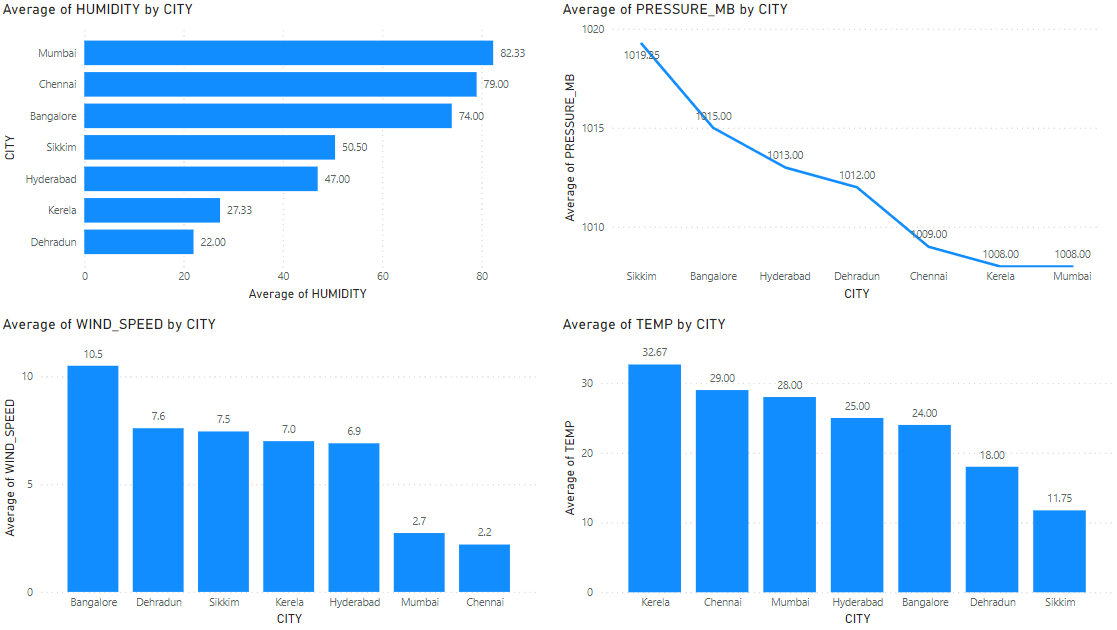

The page's visual inventory and layout, read from the dashboard file:
{"tool":"powerbi","page":{"name":"City Comparision After 2 hours","canvas":[1280,720],"ordinal":2},"visuals":[{"type":"barChart","fields":{"Category":["2024-04-10 4_36pm (2).CITY"],"Y":["Avg(2024-04-10 4_36pm (2).HUMIDITY)"]},"box":[0,0,621.6,348.5],"z":0},{"type":"lineChart","fields":{"Category":["2024-04-10 4_36pm (2).CITY"],"Y":["Avg(2024-04-10 4_36pm (2).PRESSURE_MB)"]},"box":[639.5,0,625.7,348.5],"z":1000},{"type":"clusteredColumnChart","fields":{"Y":["Avg(2024-04-10 4_36pm (2).TEMP)"],"Category":["2024-04-10 4_36pm (2).CITY"]},"box":[639.5,359.5,640.8,360.9],"z":2000},{"type":"clusteredColumnChart","fields":{"Y":["Avg(2024-04-10 4_36pm (2).WIND_SPEED)"],"Category":["2024-04-10 4_36pm (2).CITY"]},"box":[0,359.5,621.6,360.5],"z":3000}]}

Visuals, with their boxes in screenshot pixels (x1, y1, x2, y2), scaled from the page's 1280x720 canvas onto the 1117x630 screenshot:
barChart - 2024-04-10 4_36pm (2).CITY x Avg(2024-04-10 4_36pm (2).HUMIDITY): box(0, 0, 542, 305)
lineChart - 2024-04-10 4_36pm (2).CITY x Avg(2024-04-10 4_36pm (2).PRESSURE_MB): box(558, 0, 1104, 305)
clusteredColumnChart - Avg(2024-04-10 4_36pm (2).TEMP) x 2024-04-10 4_36pm (2).CITY: box(558, 315, 1116, 629)
clusteredColumnChart - Avg(2024-04-10 4_36pm (2).WIND_SPEED) x 2024-04-10 4_36pm (2).CITY: box(0, 315, 542, 629)
